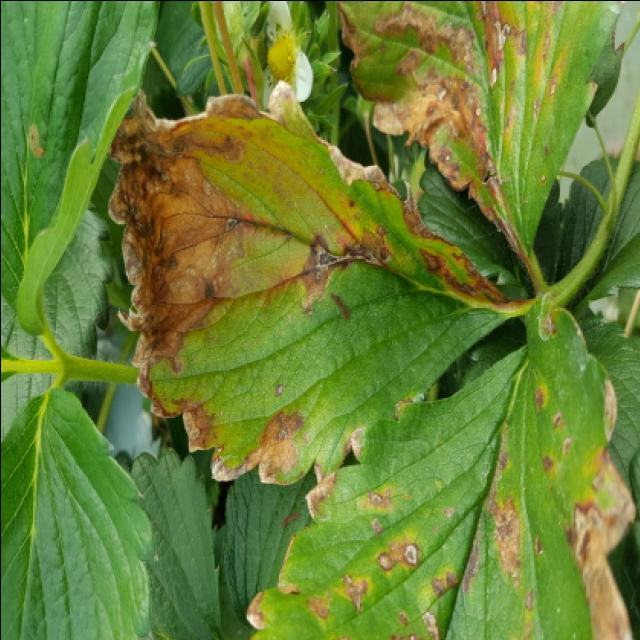Angular Leafspot: (107, 78, 529, 487), (244, 290, 637, 639), (336, 2, 626, 292)
